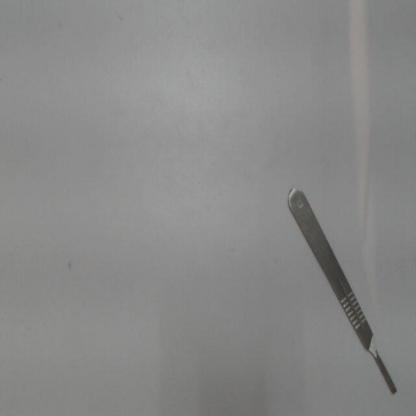No.4 BP Handle: (275, 166, 406, 405)
